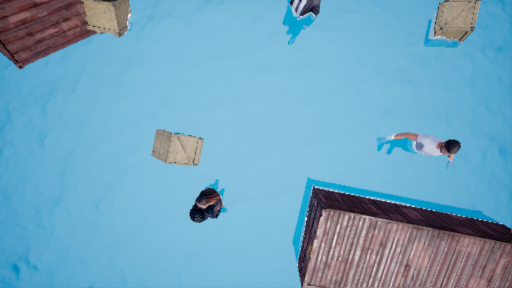person: (280, 1, 350, 63), (378, 127, 462, 171), (190, 179, 238, 226)
